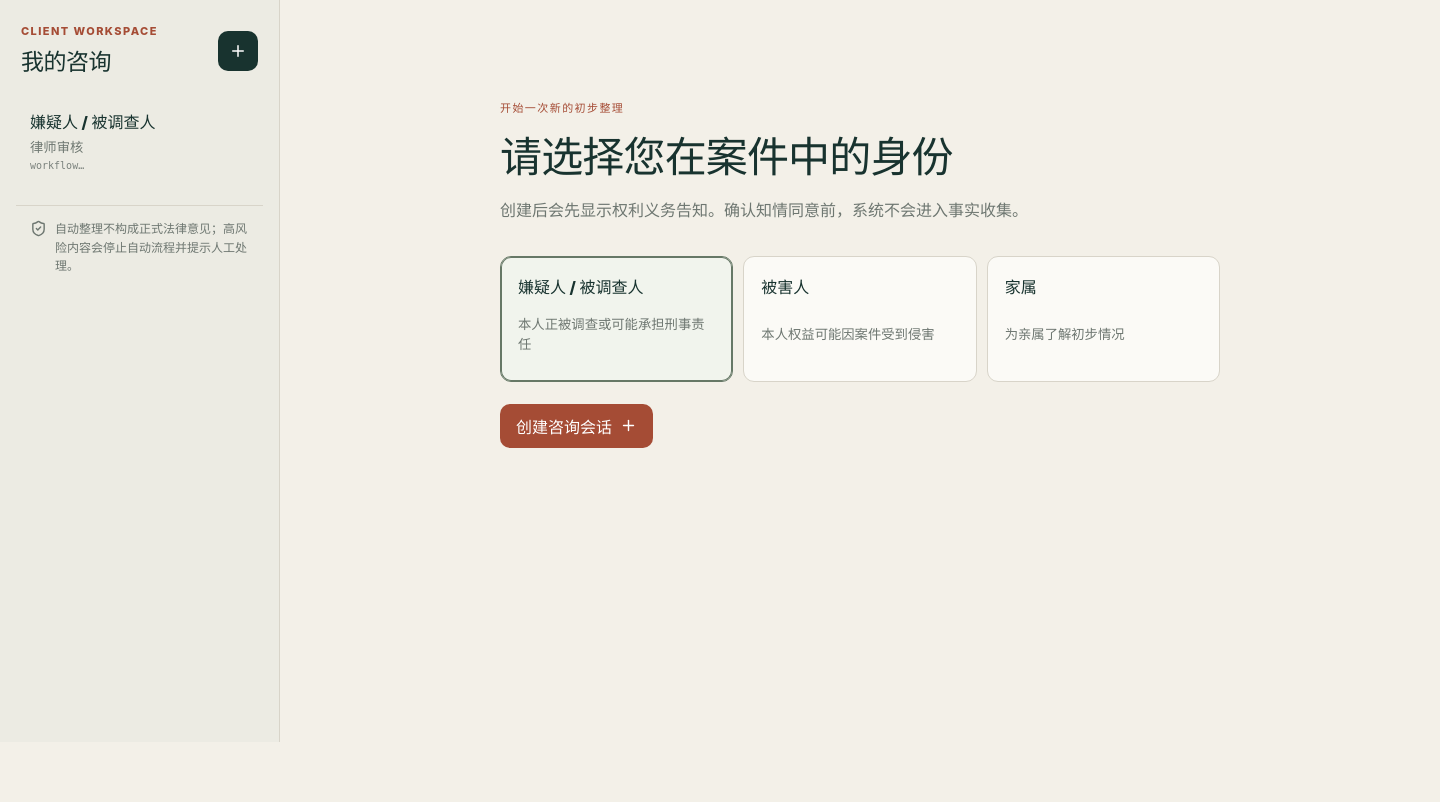
Scenario: ClientWorkspace core requests › shows reviewed completion and disables further client messages
Click the text "律师审核" at x=57, y=147, box [30,139,83,155]
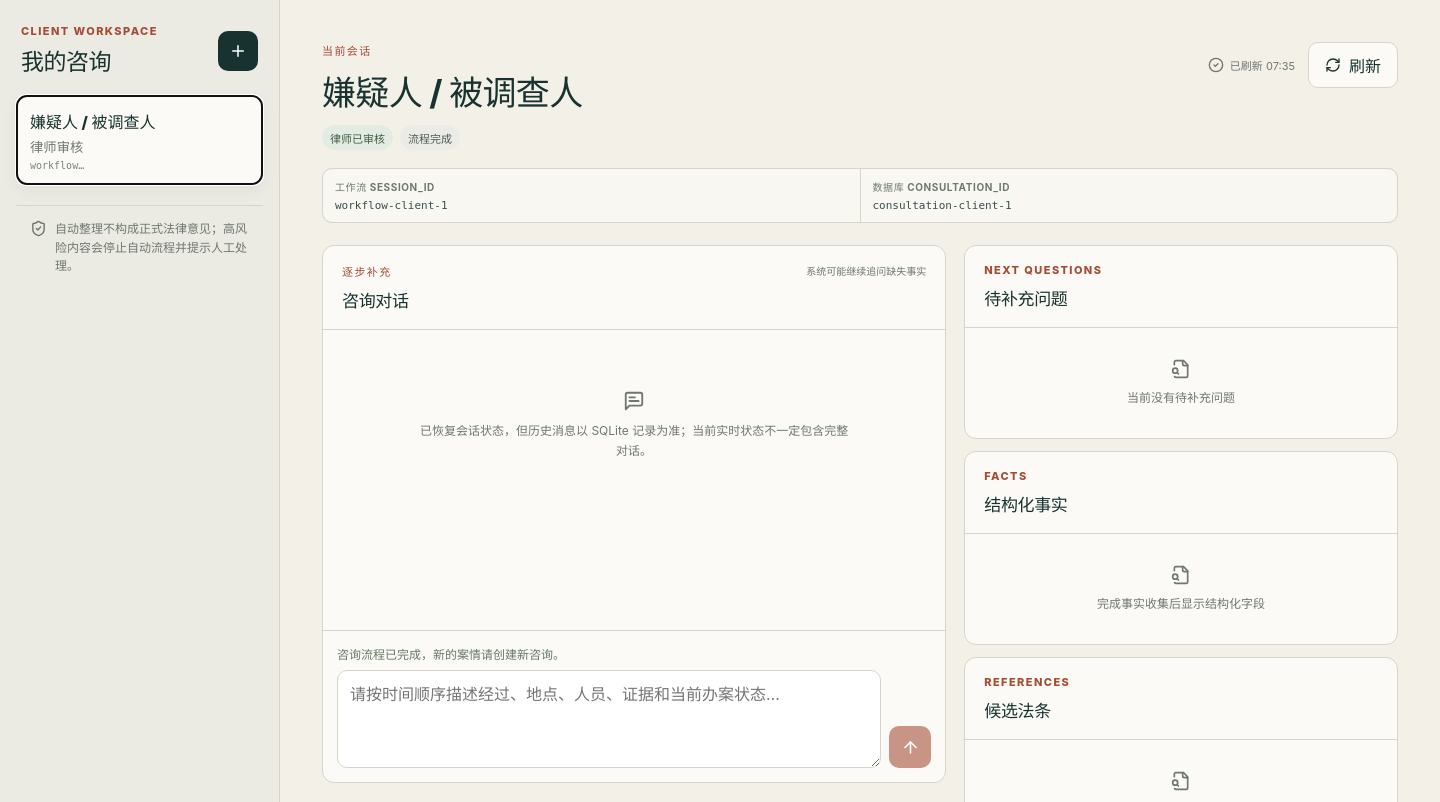
Check: the text "律师已审核" is shown, box [322,125,393,150]
Check: the text box named "补充案情" is disabled, box [337,670,881,768]
Check: the text "咨询流程已完成，新的案情请创建新咨询。" is shown, box [337,647,565,662]
